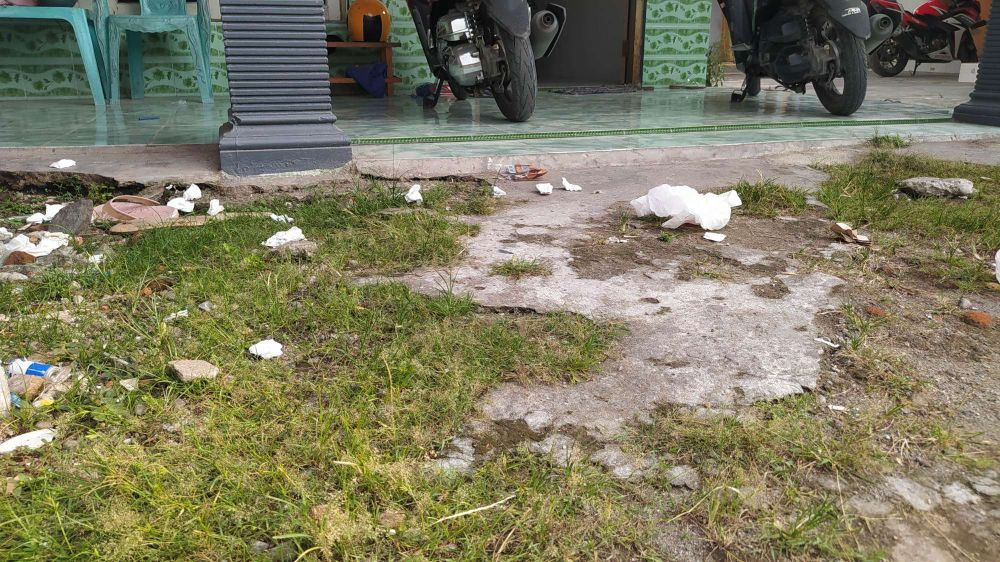plastik: (622, 183, 767, 236), (171, 183, 230, 233), (263, 217, 321, 261), (243, 333, 293, 375), (526, 173, 586, 200), (25, 197, 64, 225), (397, 181, 431, 209)
